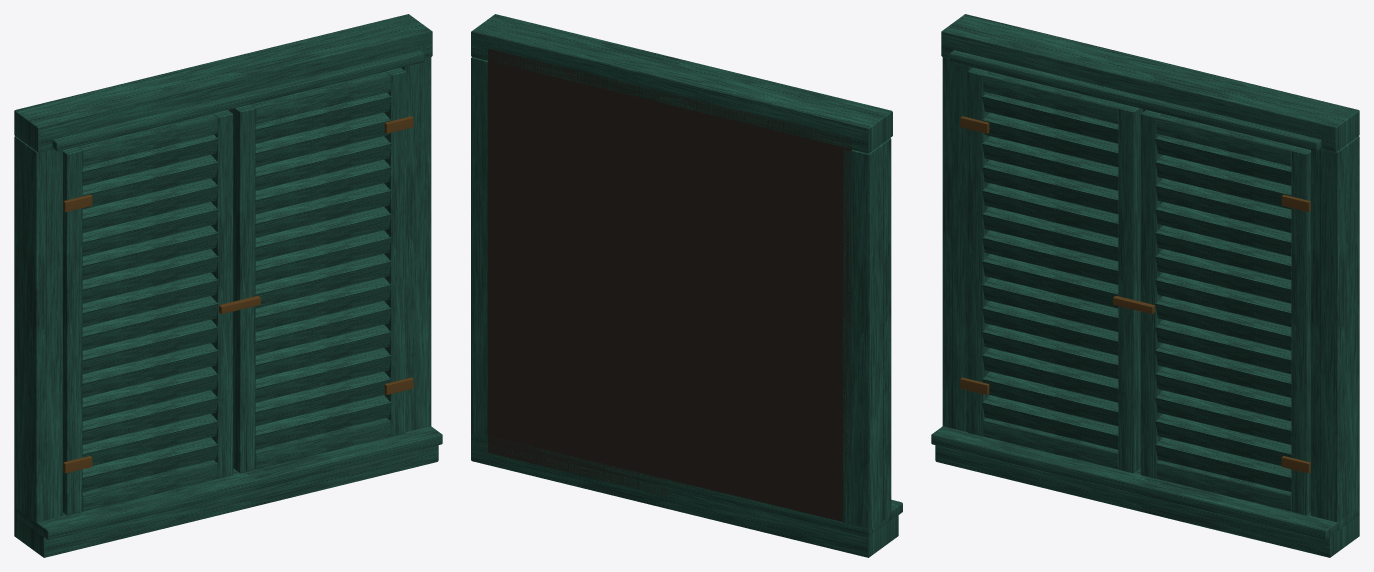
Rendered from shutter-louvered.glb.
3 renders of one model, left to right at view 1: azimuth 30°, elevation 25°; view 2: azimuth 150°, elevation 25°; view 3: azimuth 330°, elevation 25°, orthographic.
Parts seen in each view (by area): view 1: shutter-louvered; view 2: shutter-louvered; view 3: shutter-louvered.
Part boxes in pixels (x1=…): shutter-louvered: x1=14, y1=14, x2=442, y2=557; shutter-louvered: x1=471, y1=14, x2=902, y2=557; shutter-louvered: x1=931, y1=14, x2=1359, y2=557.
Bounding box in the file's own units: 1.6 × 1.65 × 0.24.
2 materials, 1 textured.
